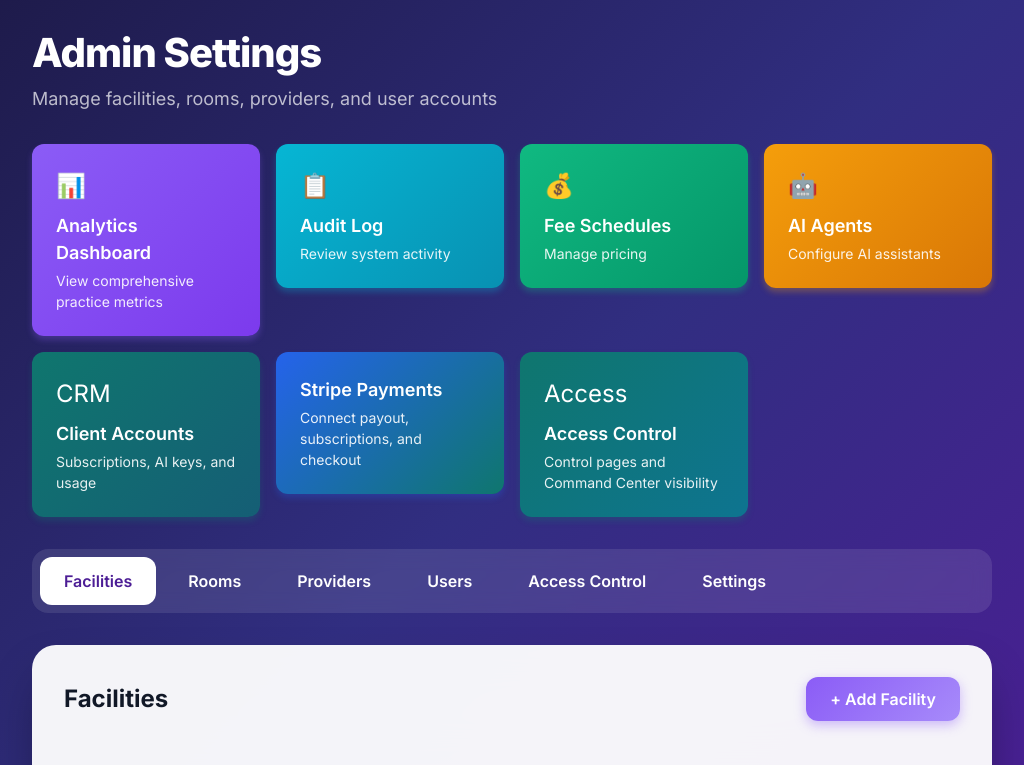
Test: AdminPage › should switch to providers tab and load providers
Click the button "Providers": click(334, 581) [273, 557, 395, 605]
(page scrolled)
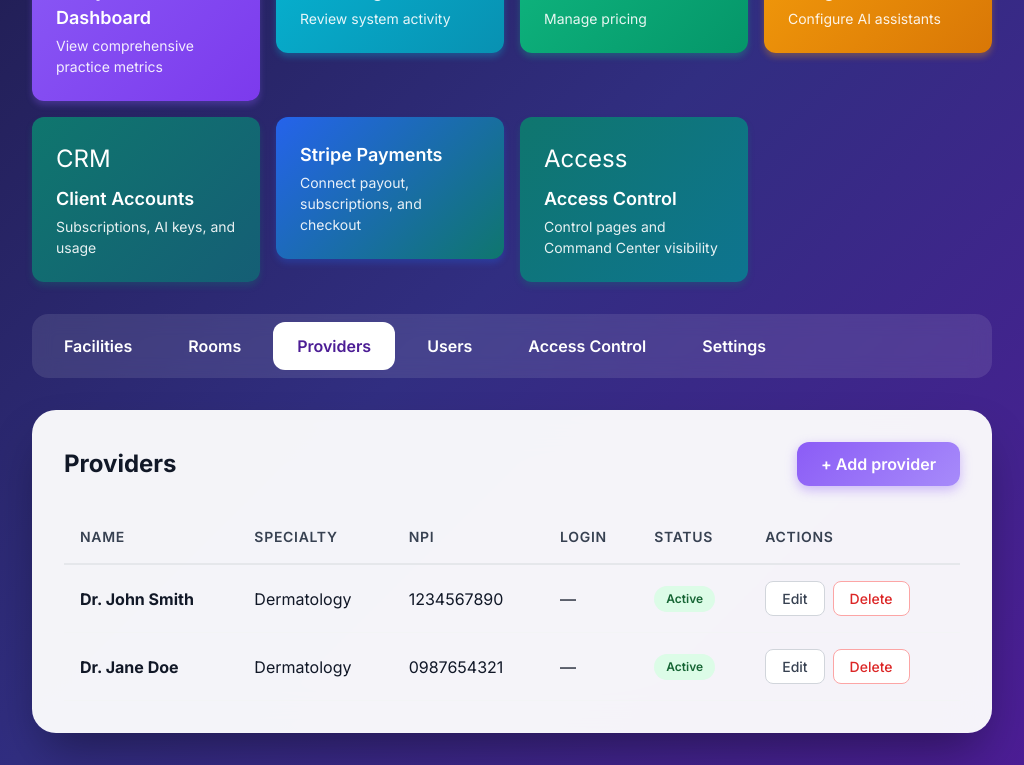
Result: the text "Dr. John Smith" is shown at [80, 588, 194, 608]
Result: the text "Dr. Jane Doe" is shown at [80, 656, 178, 676]
Result: the text "1234567890" is shown at [393, 564, 544, 632]
